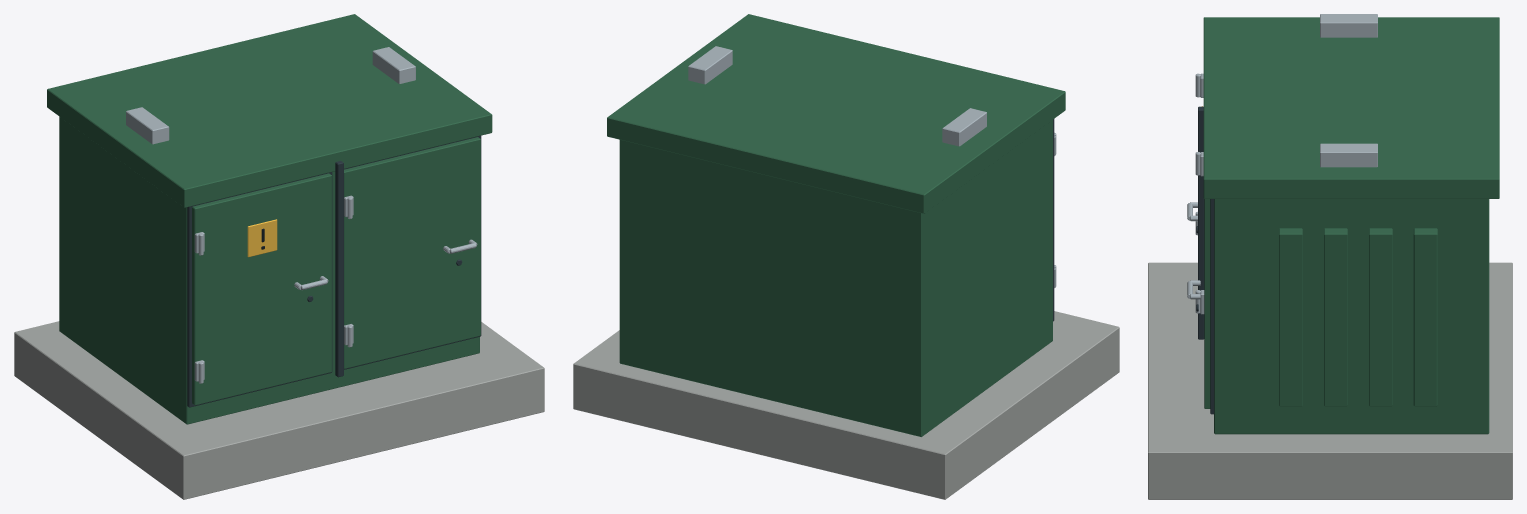
File: b05_padmount_transformer.glb
The picture shows the model from 3 angles, left to right: view 1: azimuth 30°, elevation 25°; view 2: azimuth 150°, elevation 25°; view 3: azimuth 270°, elevation 25°; orthographic projection. The views are drawn at different scales.
Parts seen in each view (by area): view 1: b05_padmount_transformer; view 2: b05_padmount_transformer; view 3: b05_padmount_transformer.
Boxes of the visible parts, box(x1,y1,x2,y2) form: b05_padmount_transformer: box(14, 14, 544, 499); b05_padmount_transformer: box(573, 14, 1119, 499); b05_padmount_transformer: box(1148, 14, 1512, 499).
Bounding box in the file's own units: 1.7 × 1.35 × 1.38.
